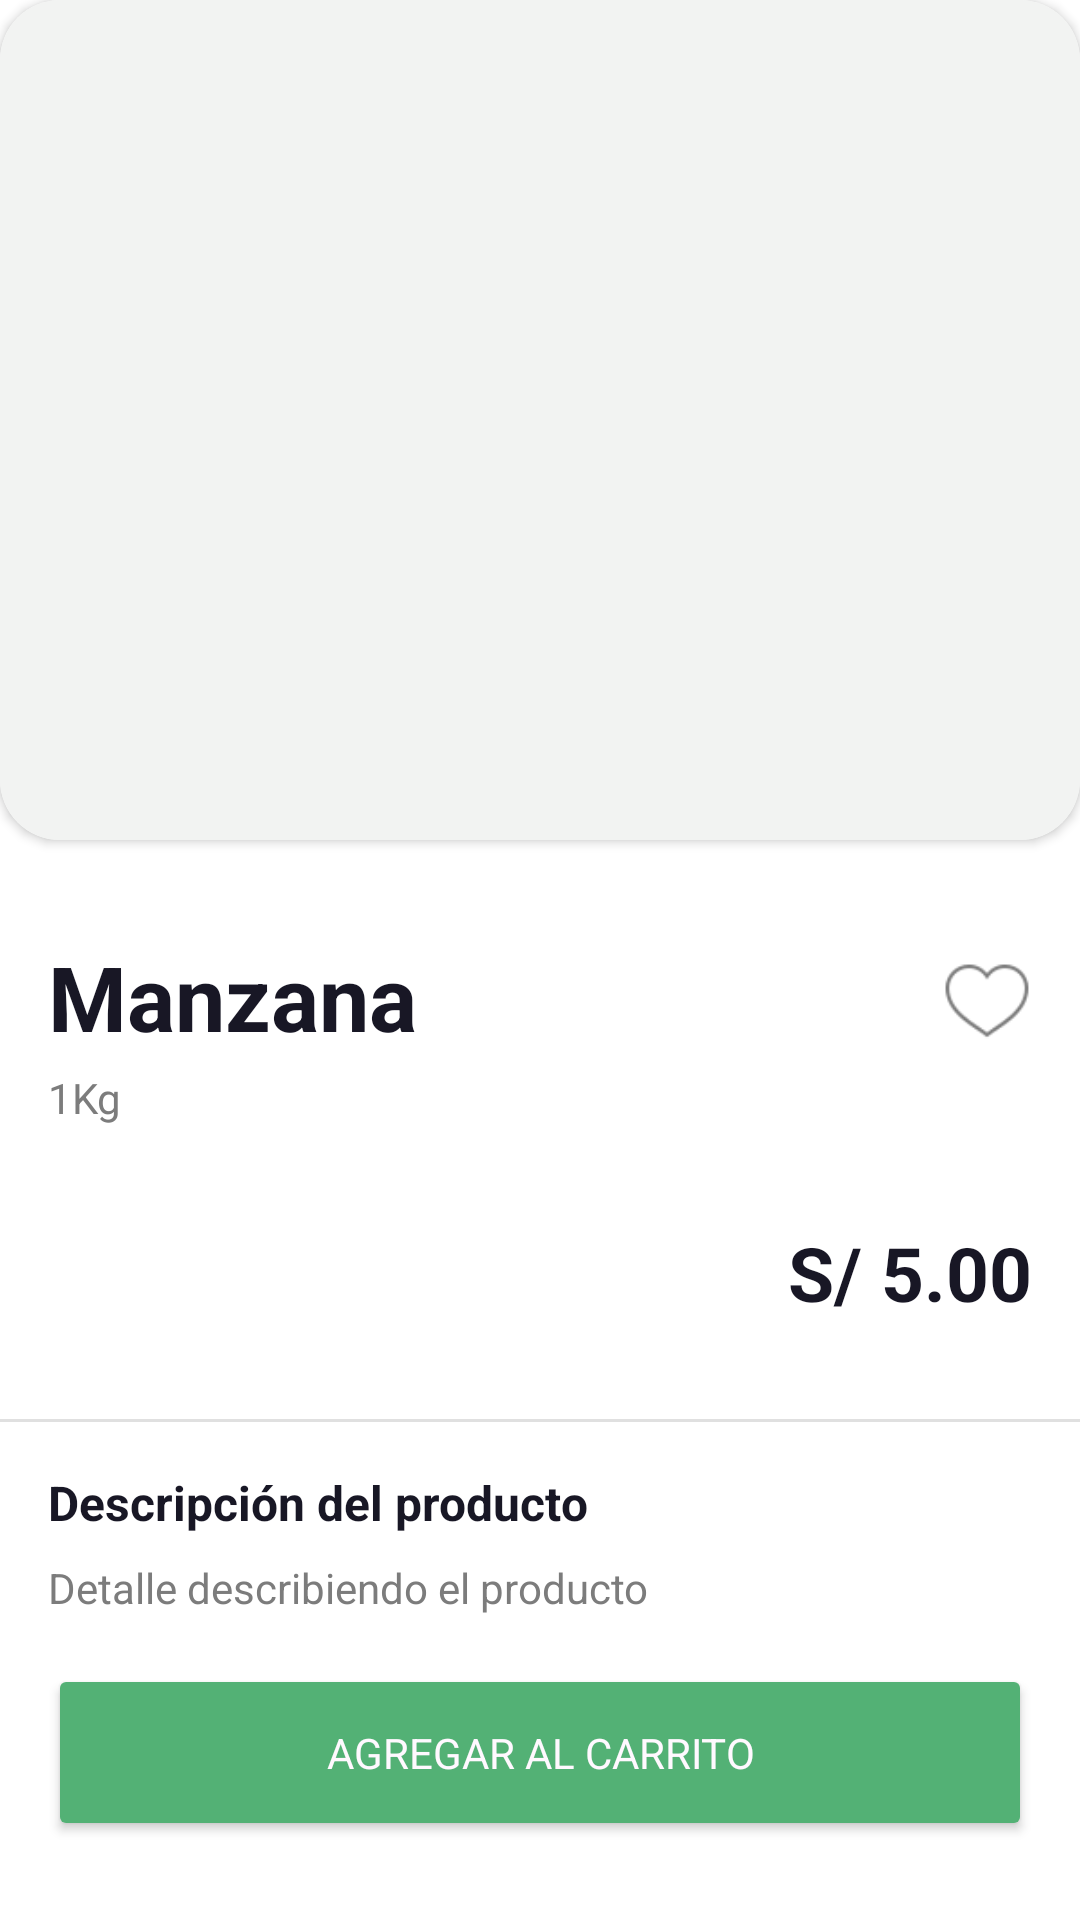

Screen size 1080 x 1920. Icon name, then its box in pixels as (x1, y1, x2, y2):
not fav: (945, 964, 1029, 1037)
